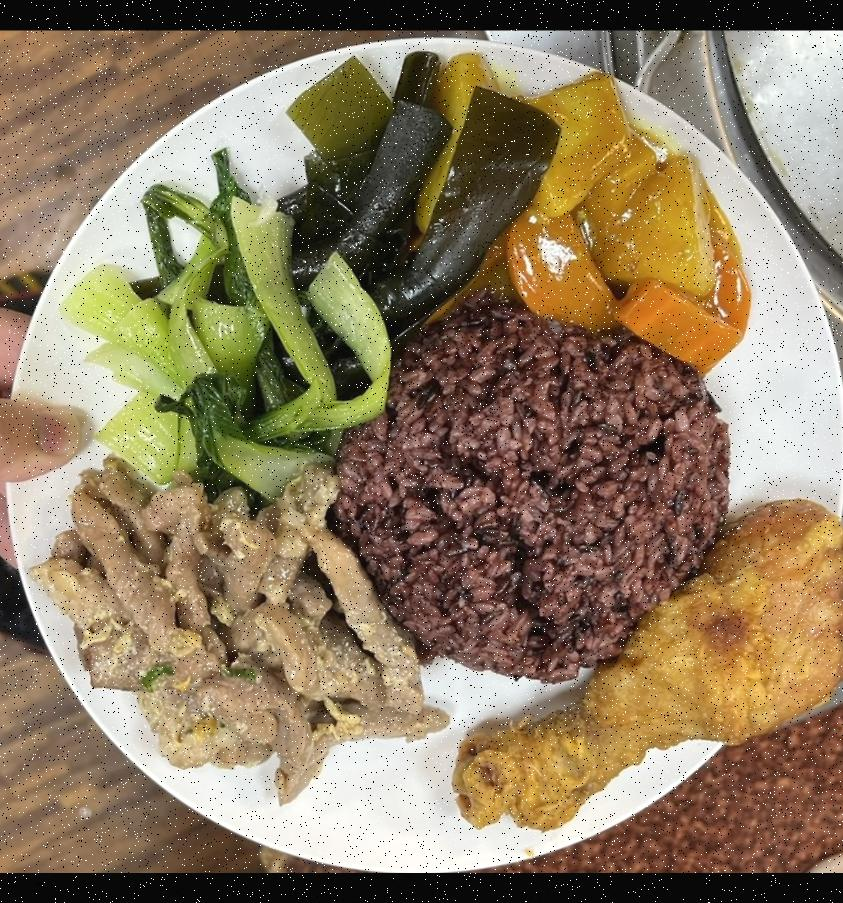big fried chicken leg: (0, 48, 843, 873)
braised fish: (345, 304, 736, 681)
braised fish fillet: (410, 53, 750, 365), (70, 181, 390, 472), (278, 67, 548, 352)
braised pork: (442, 499, 843, 840), (32, 466, 435, 799)
